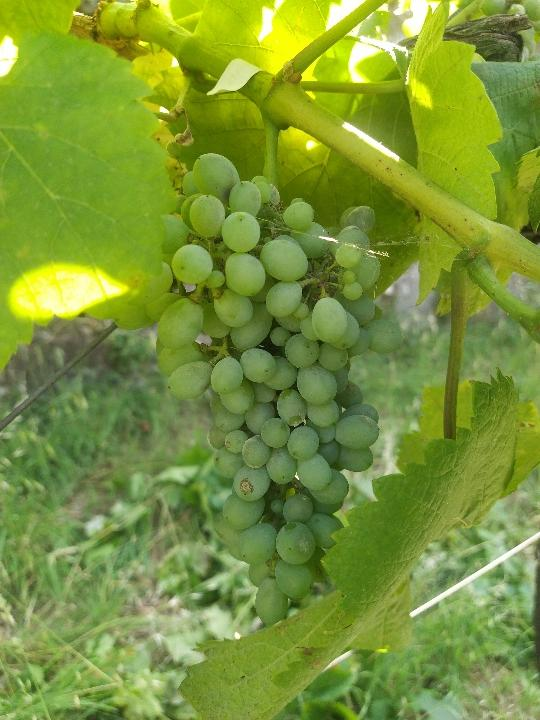grape: (146, 149, 388, 633)
